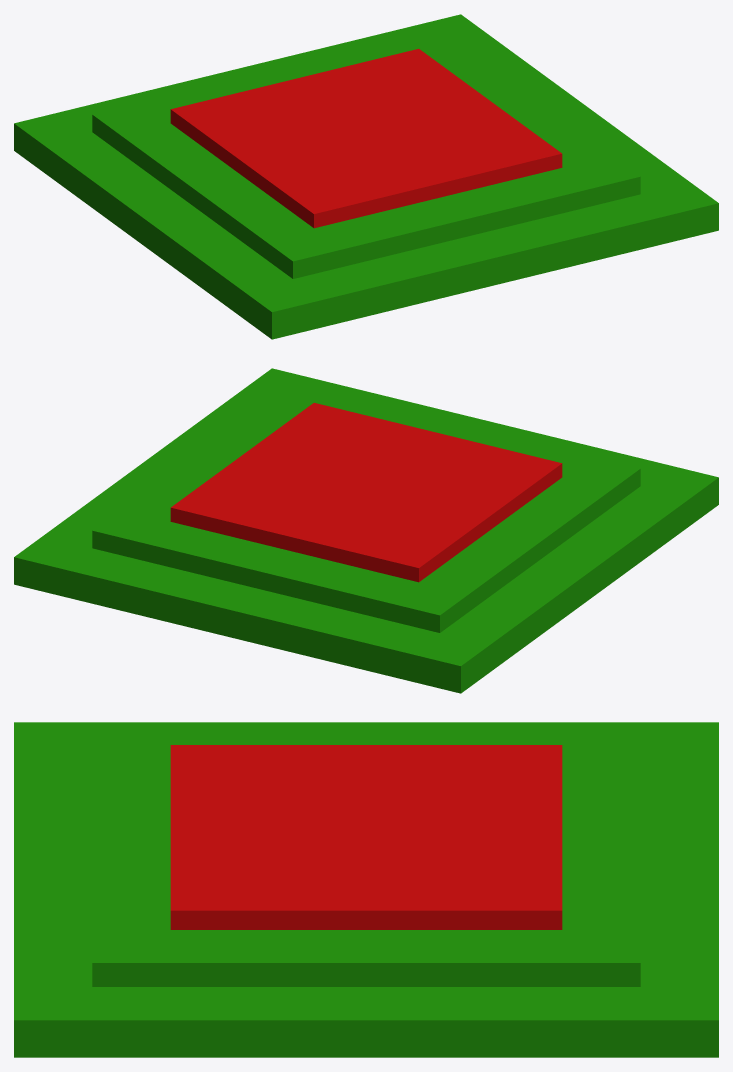
File: trap_mine.fbx
3 renders of one model, top to bottom at view 1: azimuth 30°, elevation 25°; view 2: azimuth 150°, elevation 25°; view 3: azimuth 270°, elevation 25°, orthographic. The views are drawn at different scales.
Parts seen in each view (by area): view 1: Grid; view 2: Grid; view 3: Grid.
Boxes of the visible parts, left/top/right/bottom form: Grid: left=14, top=14, right=718, bottom=339; Grid: left=14, top=368, right=718, bottom=693; Grid: left=14, top=722, right=718, bottom=1057.
Bounding box in the file's own units: 200 × 25.33 × 200.
